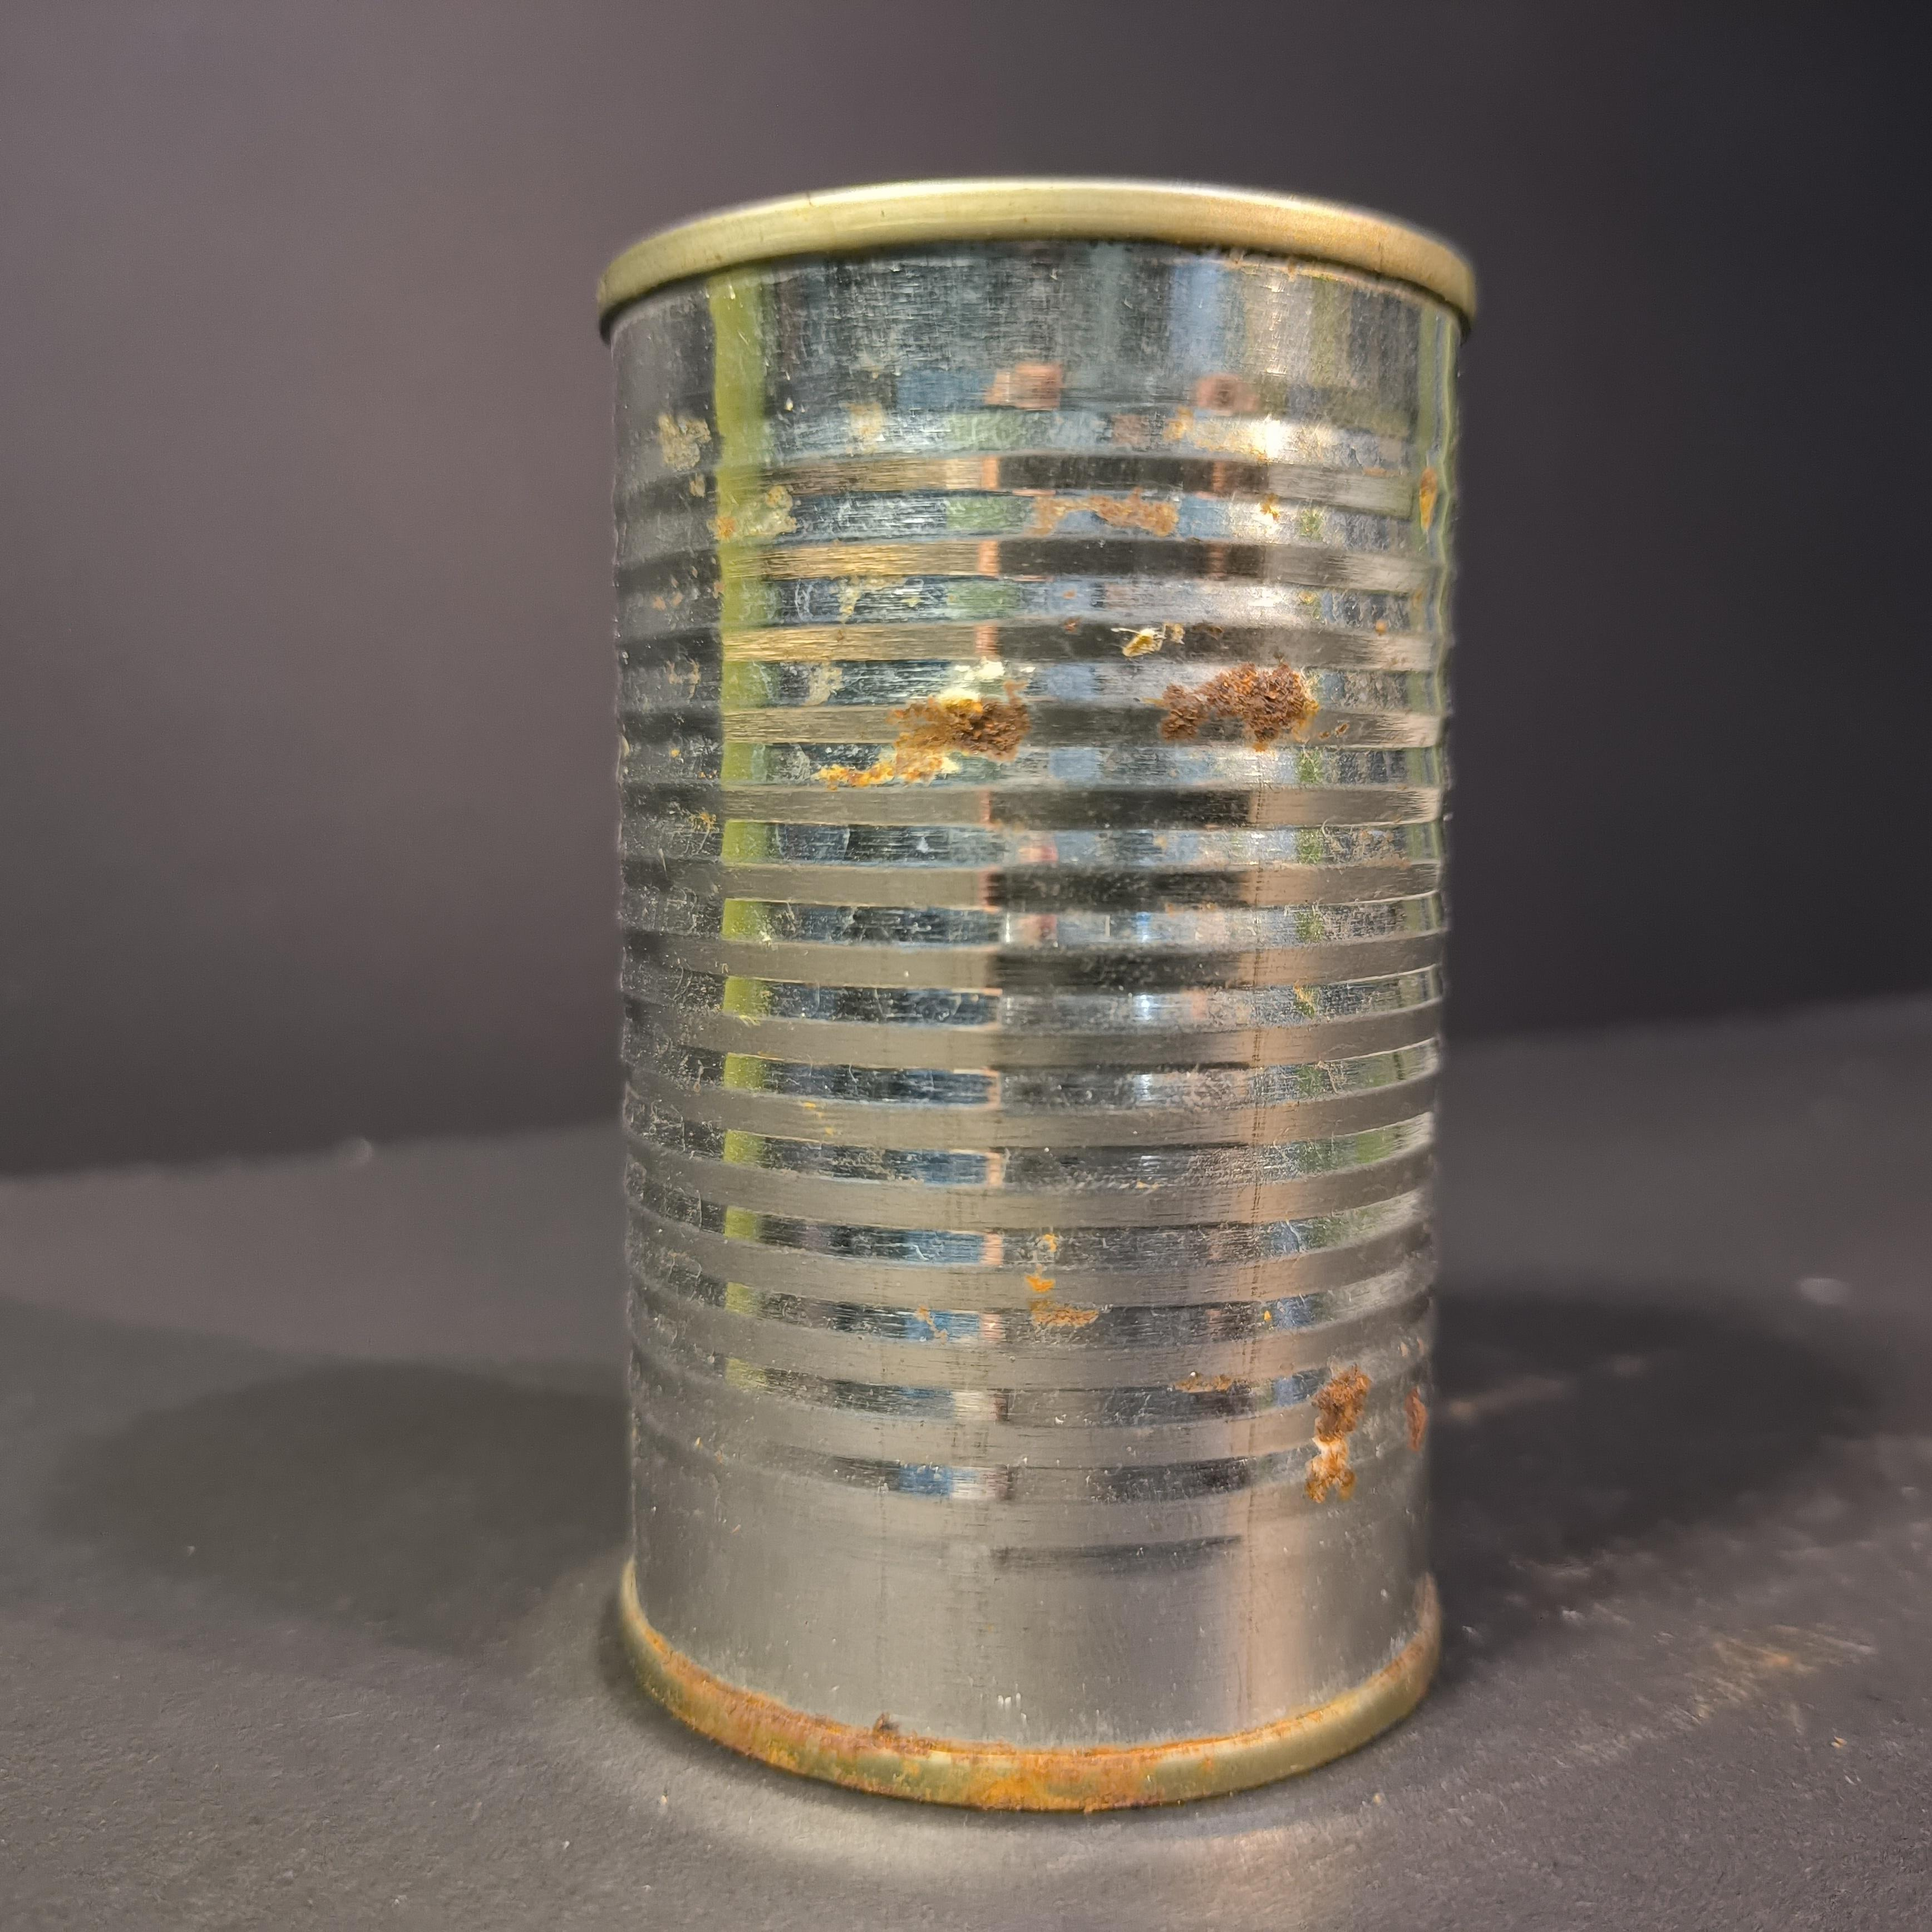Rusted: (564, 156, 1500, 1838)
